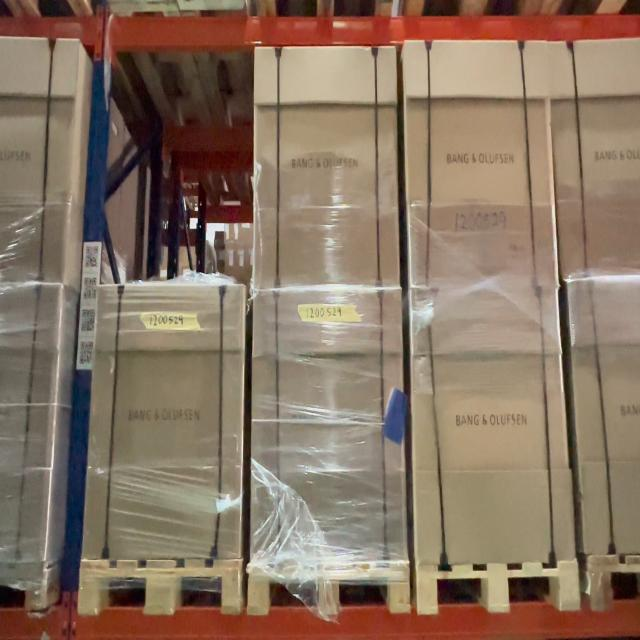box: (87, 292, 246, 563), (412, 292, 569, 556), (256, 294, 403, 567), (408, 44, 554, 290), (257, 41, 398, 289)
